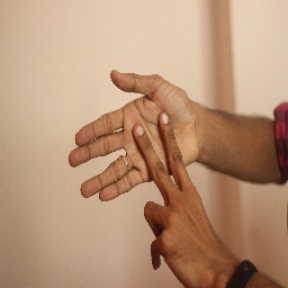N: (70, 63, 217, 263)
